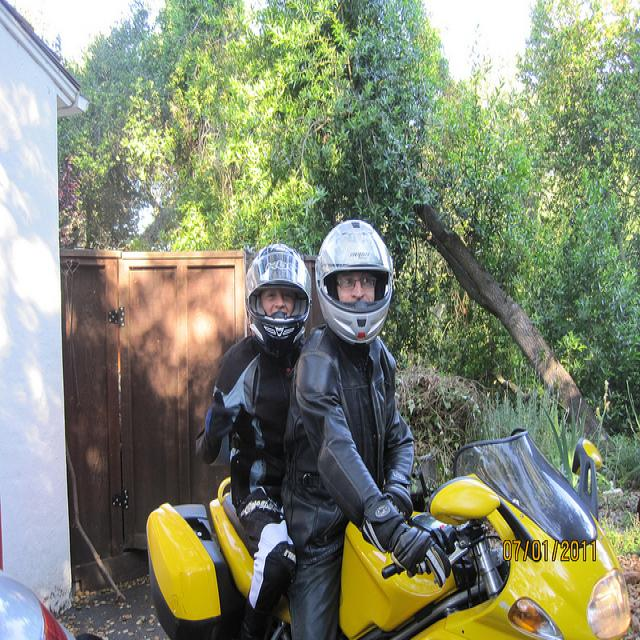motor: (145, 427, 634, 640)
